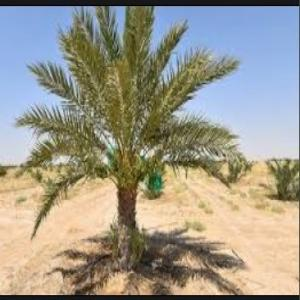palm tree: (14, 5, 243, 268)
